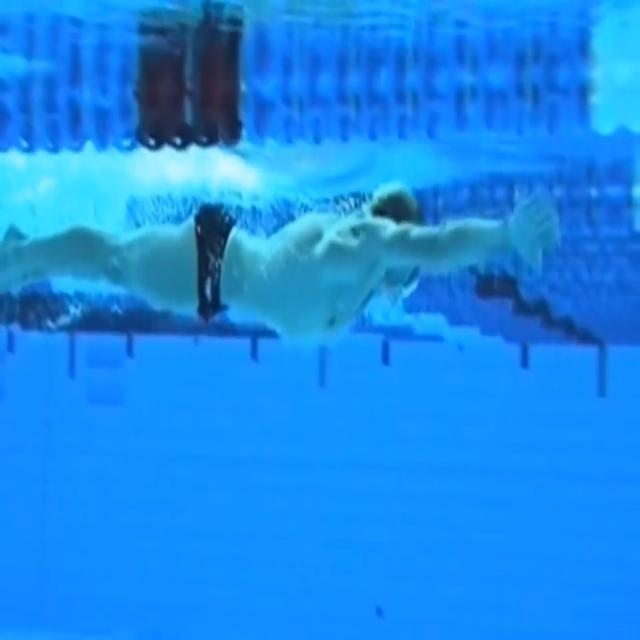Swimming: (0, 179, 559, 335)
